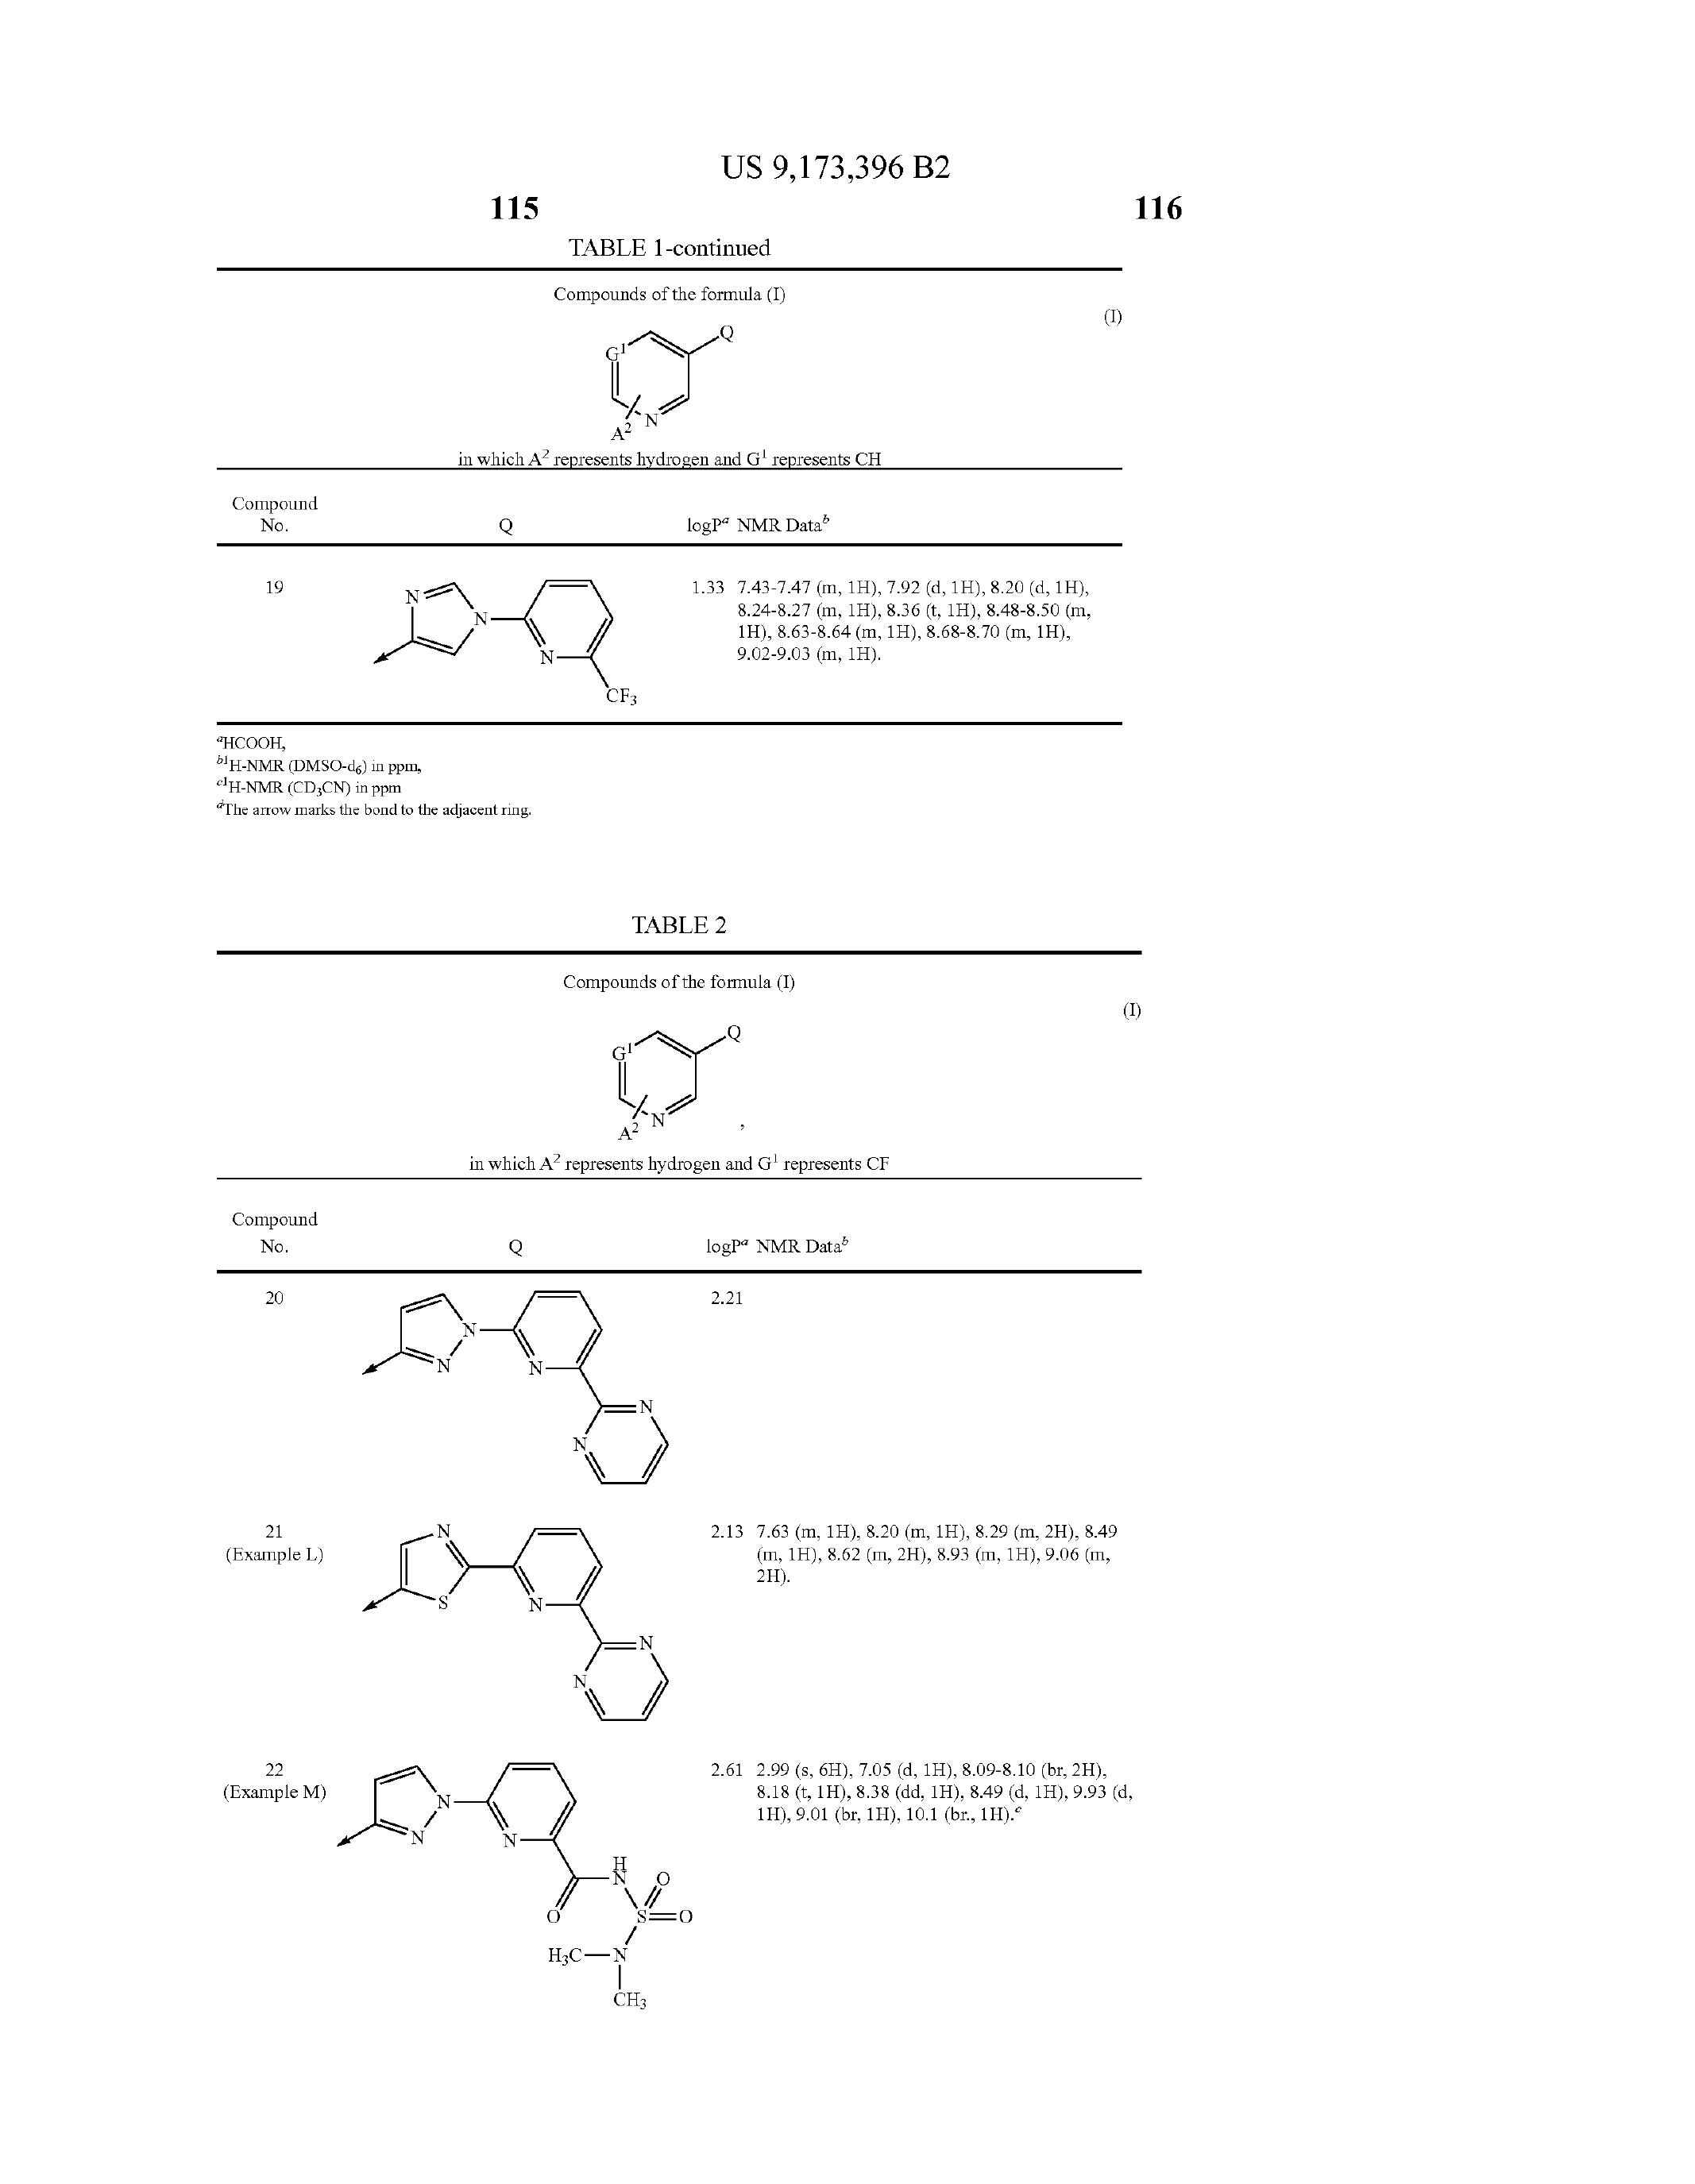relevant-structures: (307, 1750, 775, 2016), (348, 1507, 732, 1739), (332, 1282, 702, 1482)
